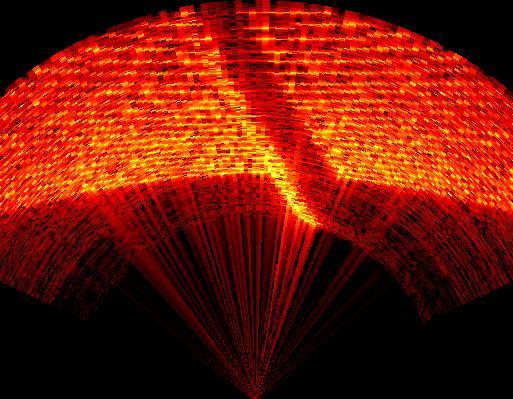pipe: (197, 0, 344, 223)
